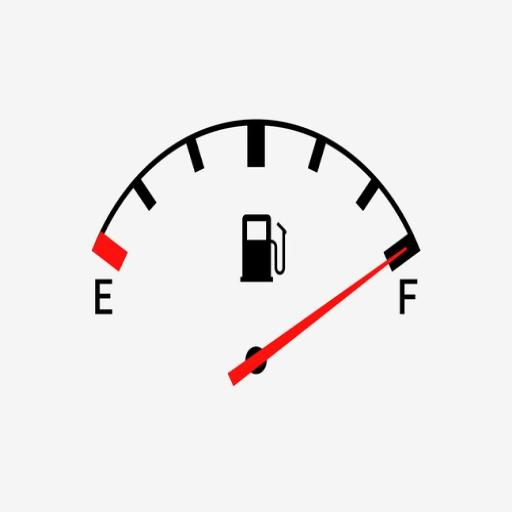empty: (91, 273, 116, 317)
fuel_icon: (236, 210, 288, 284)
full: (395, 275, 419, 319)
guage_area: (83, 116, 422, 393)
needle_center: (235, 336, 272, 381)
needle_tip: (376, 243, 409, 272)
